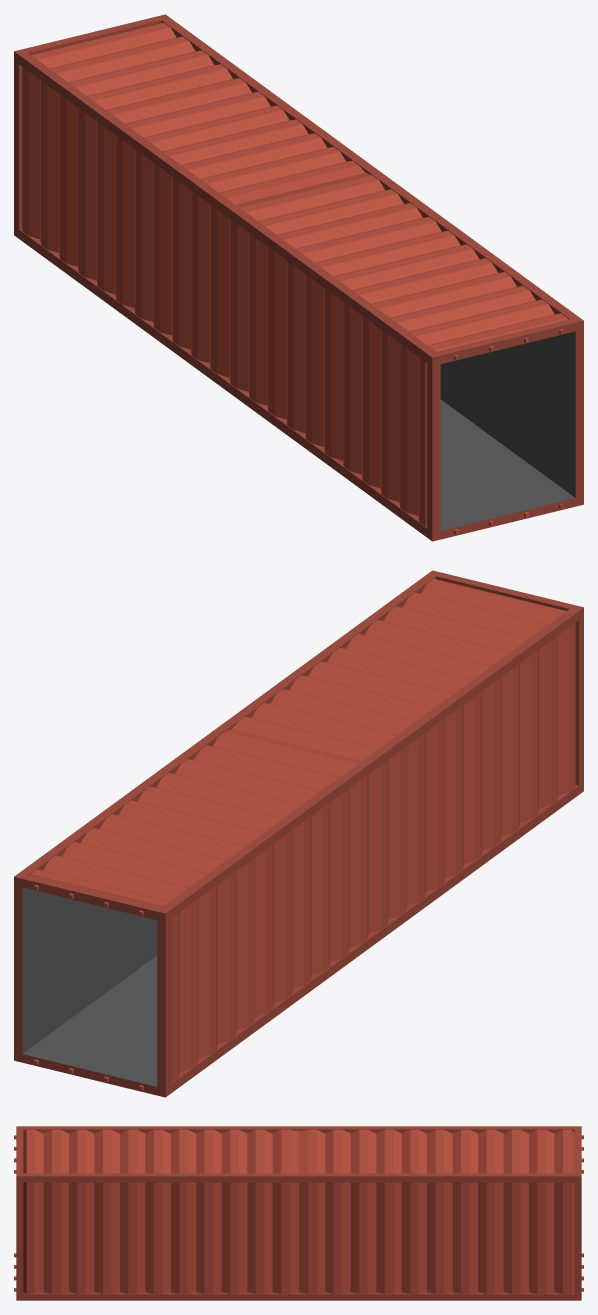
The model's file is SM_Props_ShippingContainer_04.glb.
3 views of the same model, one above another, from view 1: azimuth 30°, elevation 25°; view 2: azimuth 150°, elevation 25°; view 3: azimuth 270°, elevation 25° (orthographic). The views are drawn at different scales.
Visible parts, largest first — view 1: SM_Props_ShippingContainer_04; view 2: SM_Props_ShippingContainer_04; view 3: SM_Props_ShippingContainer_04.
Part boxes in pixels (x1,y1,x2,y2): SM_Props_ShippingContainer_04: (14, 14, 583, 541); SM_Props_ShippingContainer_04: (14, 570, 583, 1097); SM_Props_ShippingContainer_04: (14, 1126, 583, 1300).
Bounding box in the file's own units: 2.5 × 2.9 × 12.05.
1 material, 1 textured.
